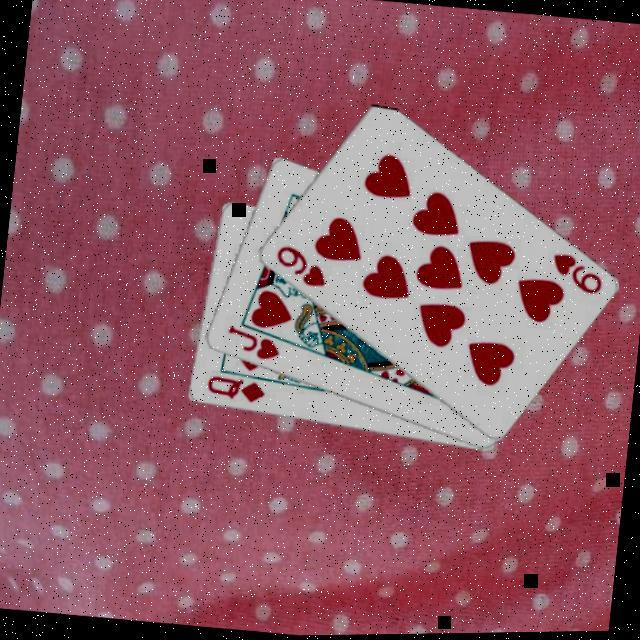9H: (547, 248, 609, 300), (272, 240, 333, 290)
JH: (223, 321, 286, 364)
QD: (203, 368, 270, 406)
